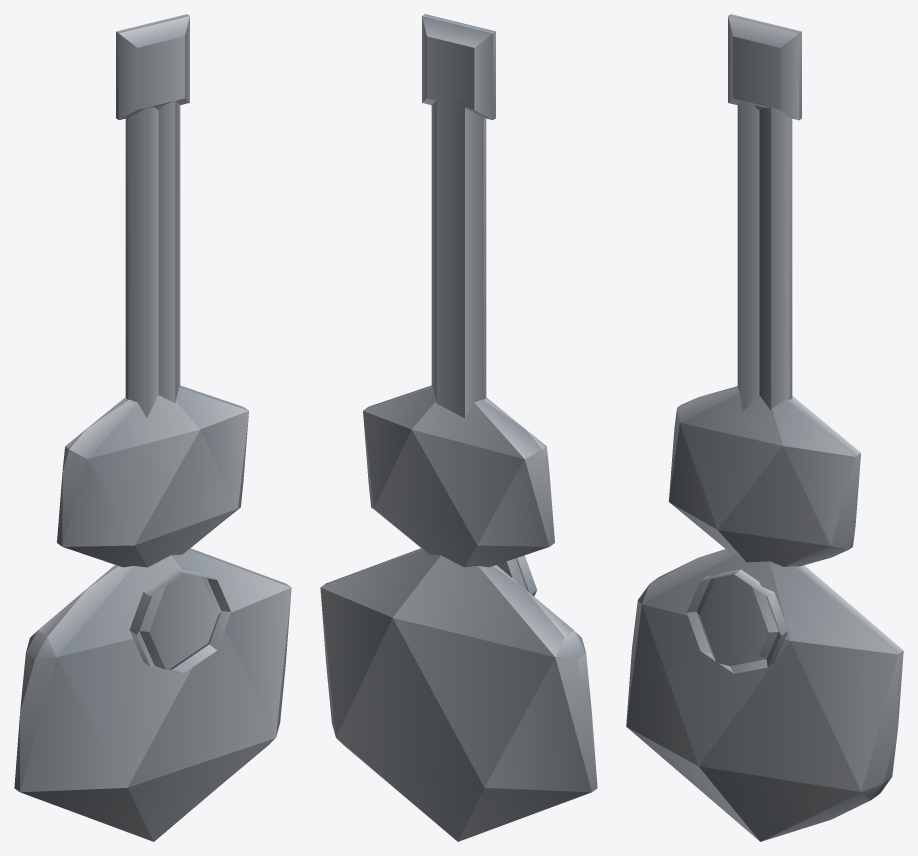
The model's file is dt_acoustic_guitar.fbx.
The picture shows the model from 3 angles, left to right: view 1: azimuth 30°, elevation 25°; view 2: azimuth 150°, elevation 25°; view 3: azimuth 330°, elevation 25°; orthographic projection.
Visible parts, largest first — view 1: dt_acoustic_guitar; view 2: dt_acoustic_guitar; view 3: dt_acoustic_guitar.
Boxes of the visible parts, bbox=[...] form: dt_acoustic_guitar: bbox=[14, 14, 291, 841]; dt_acoustic_guitar: bbox=[320, 14, 597, 841]; dt_acoustic_guitar: bbox=[626, 14, 903, 841].
Bounding box in the file's own units: 105 × 300 × 34.15.
